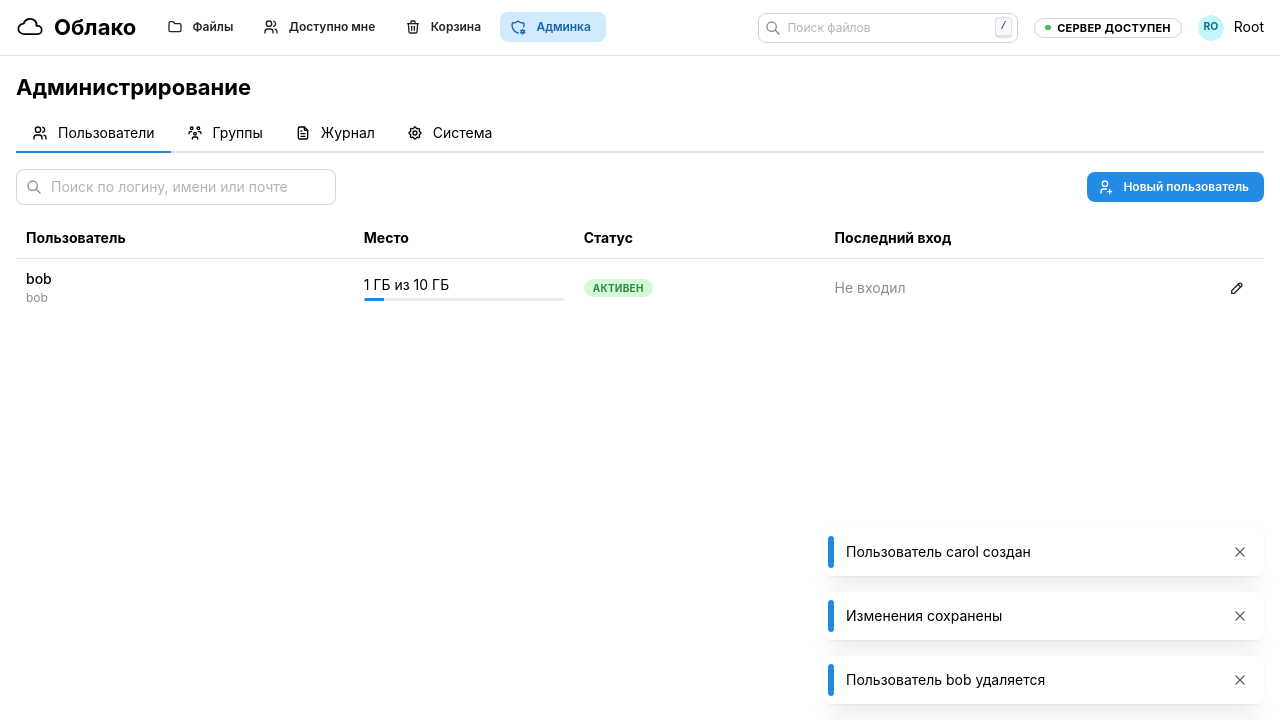
AdminPage › shows a user's devices and revokes one
Click the button named "Изменить bob" at (1237, 288), box top-left (1220, 275), bottom-right (1254, 301)
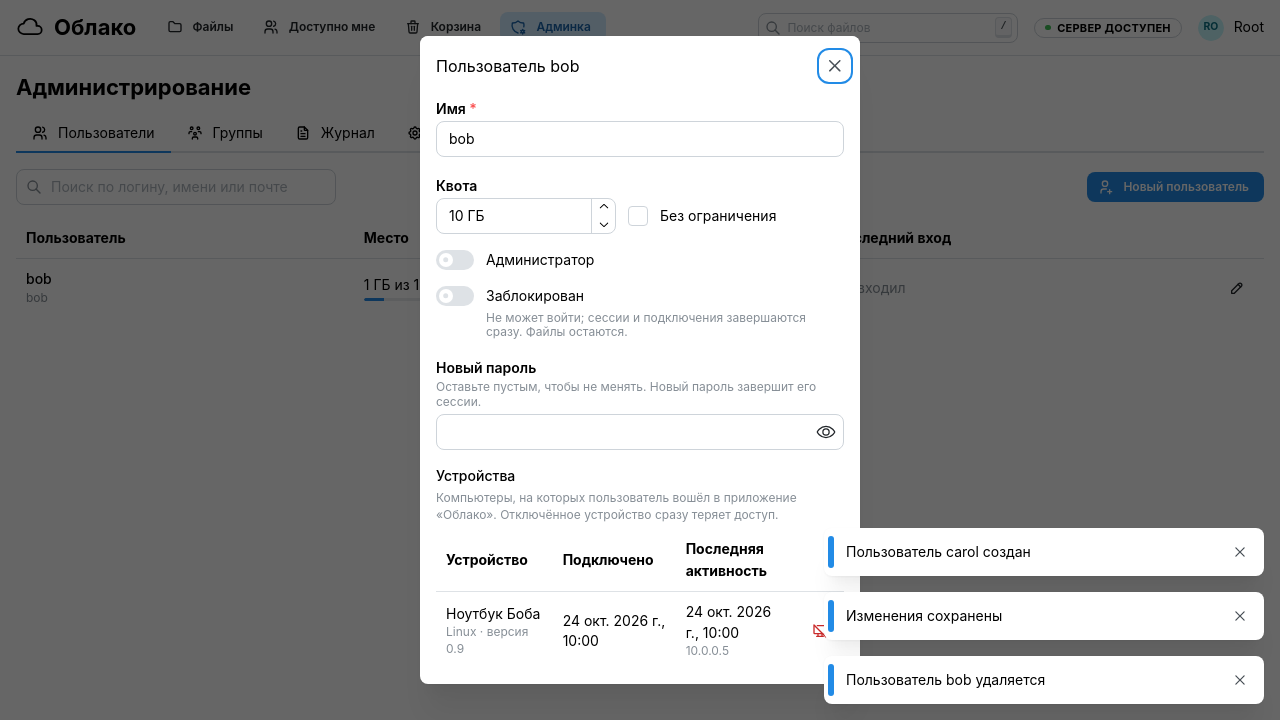
Check: the text "Ноутбук Боба" is shown, box top-left (446, 604), bottom-right (543, 624)
Check: the text "Linux · версия 0.9" is shown, box top-left (446, 624), bottom-right (543, 658)
Click the button named "Отключить устройство «Ноутбук Боба»" at (820, 631), box top-left (806, 617), bottom-right (834, 645)
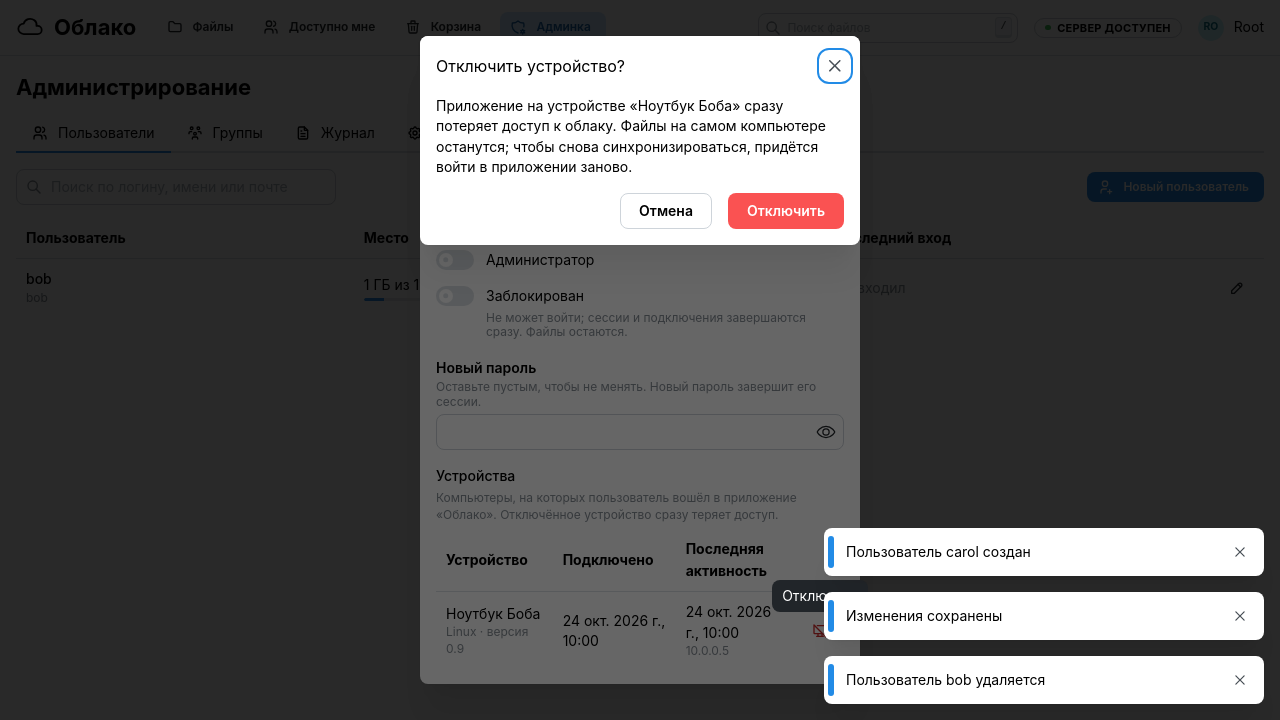
Click the button "Отключить" at (786, 211), box top-left (728, 193), bottom-right (844, 229)
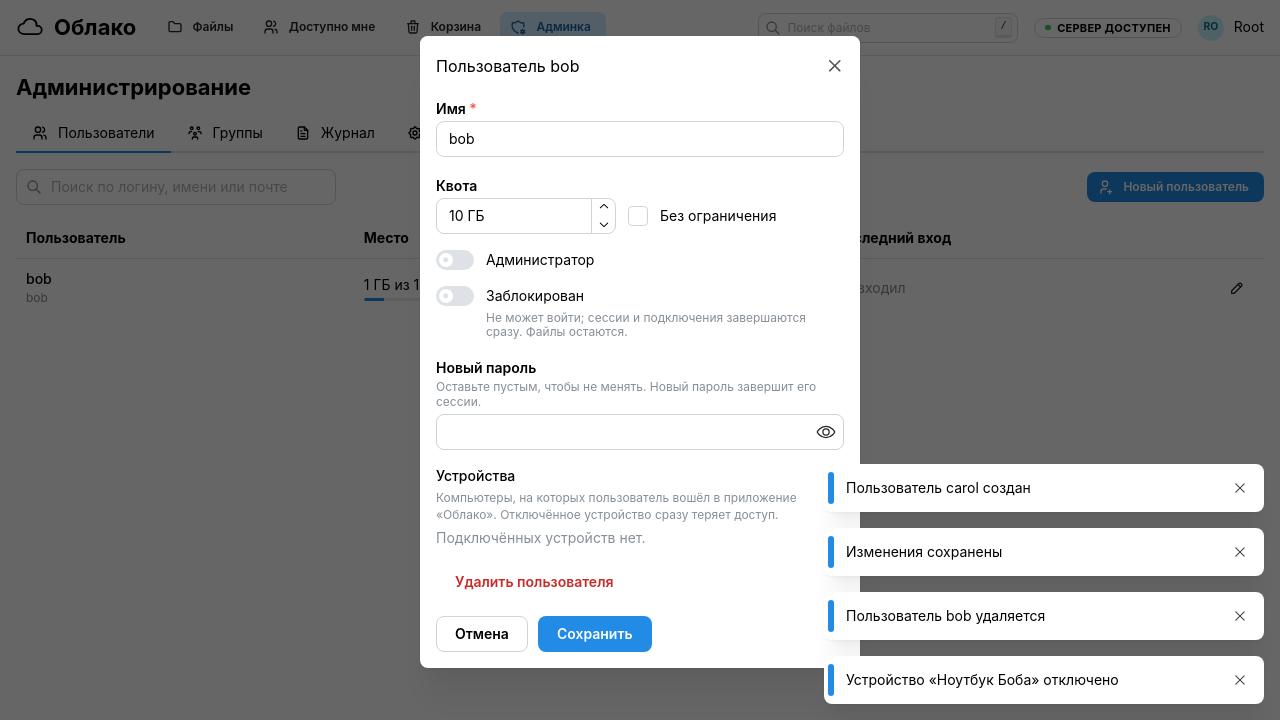
Check: the text "Подключённых устройств нет." is shown, box top-left (436, 529), bottom-right (646, 546)
